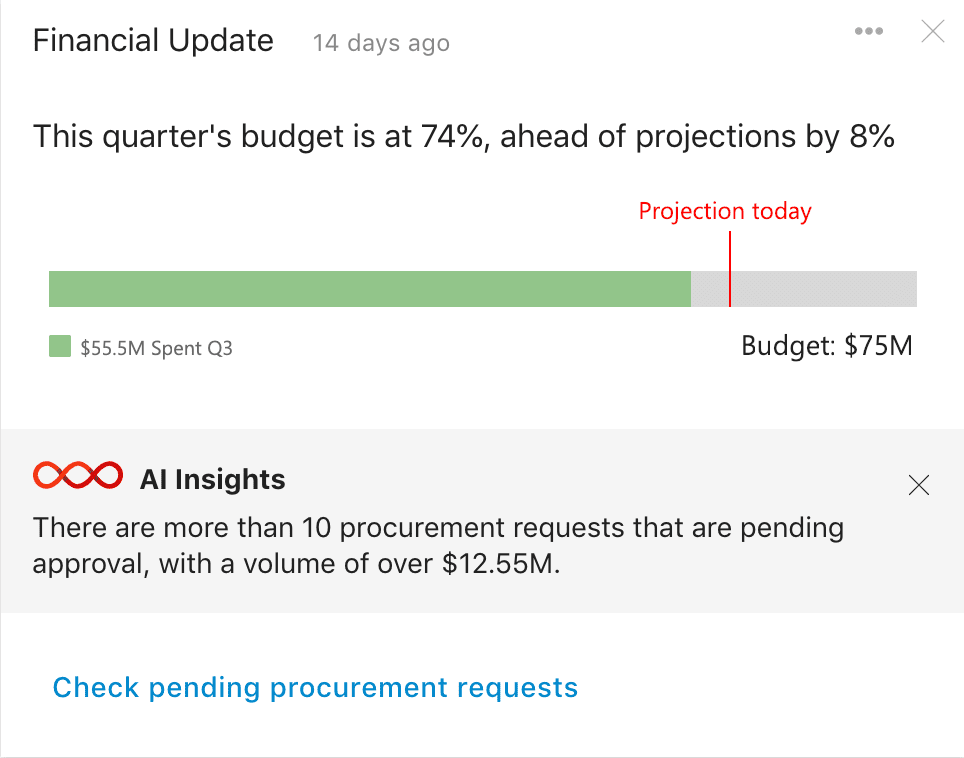image: (29, 182, 928, 321), (29, 454, 131, 496), (910, 14, 949, 50), (901, 465, 937, 502), (849, 17, 888, 46), (40, 331, 75, 361)
textbox: (27, 507, 857, 580), (22, 110, 904, 161), (46, 662, 584, 713), (23, 16, 466, 67), (733, 325, 922, 362), (133, 455, 291, 498), (79, 332, 238, 363)
